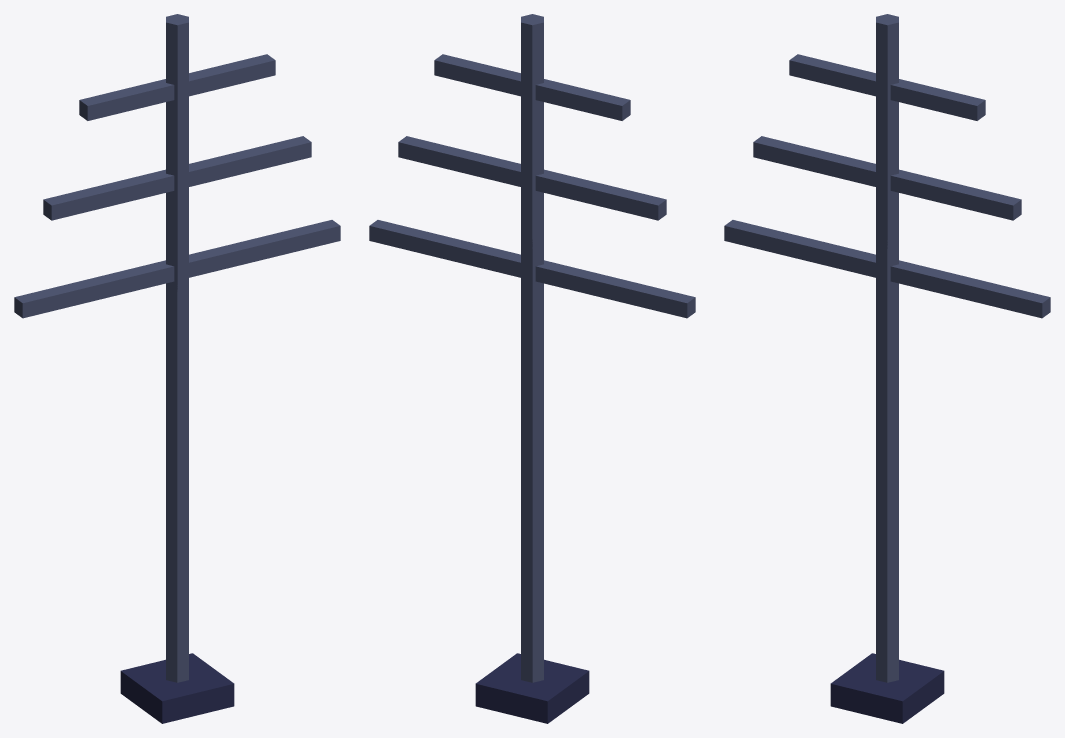
The model's file is Roof_Antenna.fbx.
The picture shows the model from 3 angles, left to right: view 1: azimuth 30°, elevation 25°; view 2: azimuth 150°, elevation 25°; view 3: azimuth 330°, elevation 25°; orthographic projection.
Visible parts, largest first — view 1: Roof_Antenna; view 2: Roof_Antenna; view 3: Roof_Antenna.
Boxes of the visible parts, bbox=[...] form: Roof_Antenna: bbox=[14, 14, 340, 723]; Roof_Antenna: bbox=[369, 14, 695, 723]; Roof_Antenna: bbox=[724, 14, 1050, 723].
Bounding box in the file's own units: 4.4 × 9 × 1.
1 material, 1 textured.
